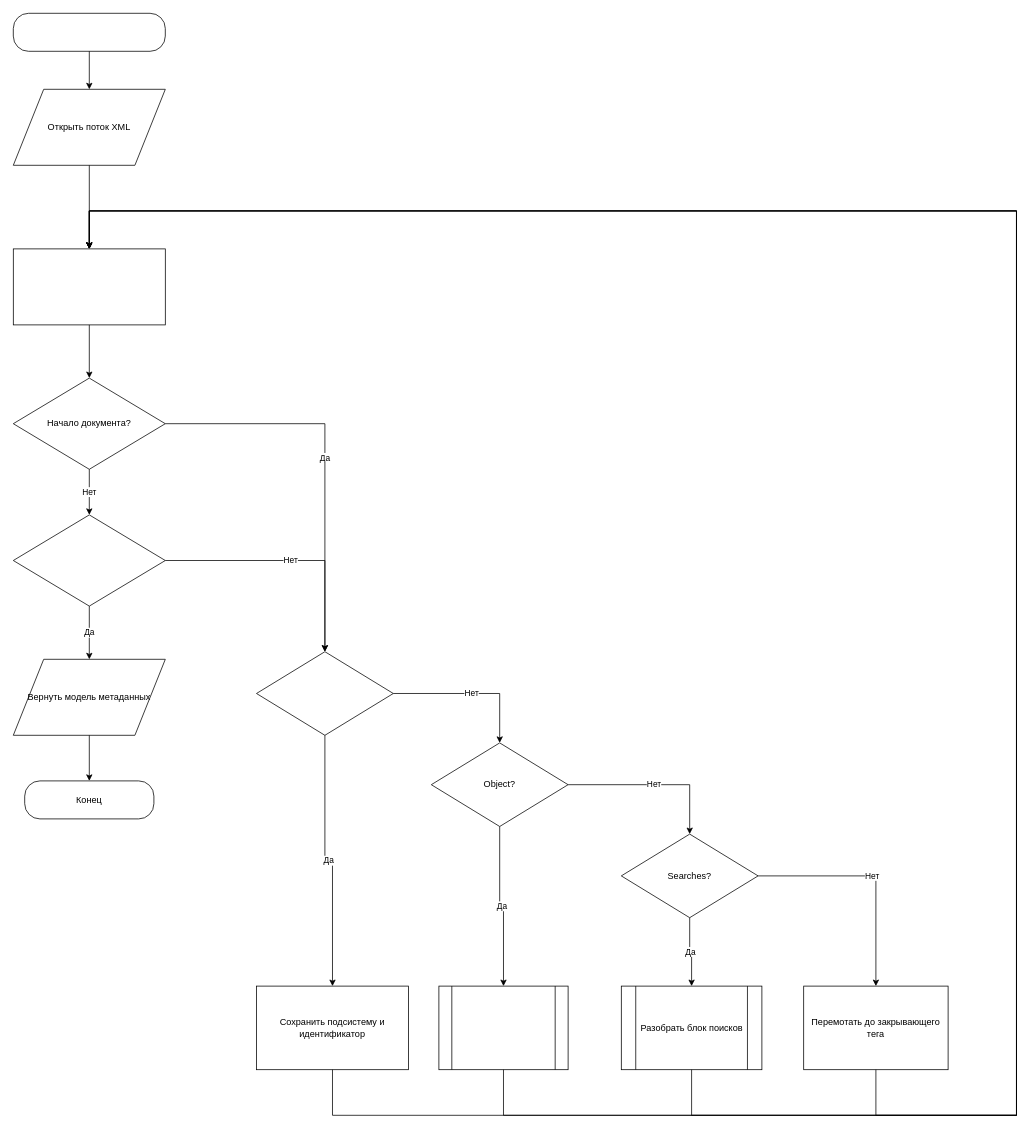
Image size: 1036x1135. Some labels were removed from this diagram. The centre of each missing label's shape, as x and y in pixels:
"Category?" goes at point 324,693.
"Конец документа?" goes at point 89,560.
"Начало" goes at point 89,32.
"Прочитать следующее событие (токен)" goes at point 89,286.
"Разобрать сущность" goes at point 503,1027.
